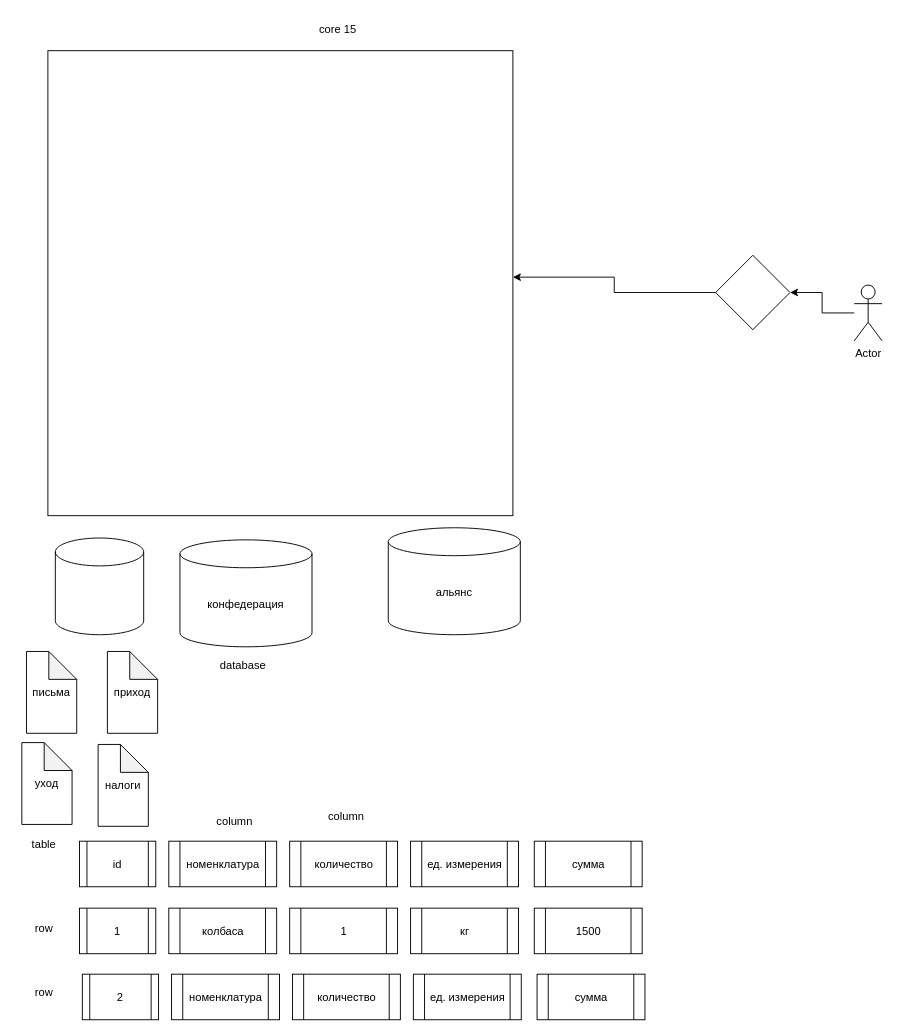
The diagram is 898 pixels wide and 1036 high, and some of its shapes have lost their labels. Each missing label, with the centre of its shape:
psycobg2: [752,292]
магазин у реки: [99,586]
